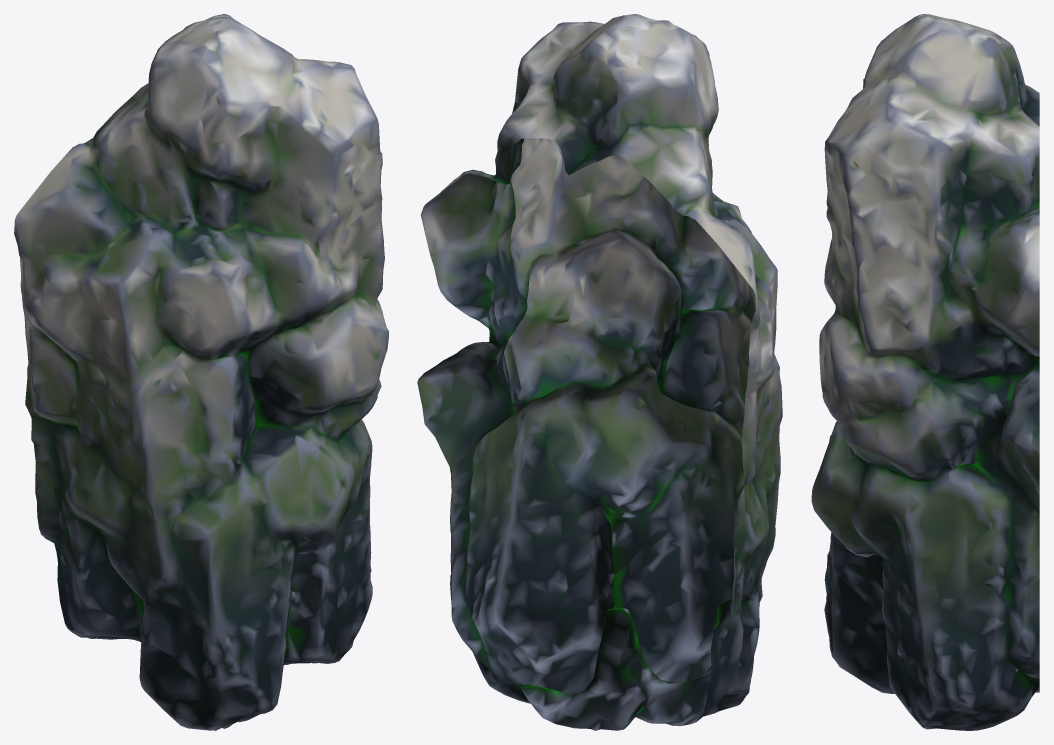
Rendered from M_Cliff_Rock_T9.fbx.
3 renders of one model, left to right at view 1: azimuth 30°, elevation 25°; view 2: azimuth 150°, elevation 25°; view 3: azimuth 270°, elevation 25°, orthographic. The views are drawn at different scales.
Visible parts, largest first — view 1: M_Cliff_Rock_T9; view 2: M_Cliff_Rock_T9; view 3: M_Cliff_Rock_T9.
Boxes of the visible parts, bbox=[...] form: M_Cliff_Rock_T9: bbox=[14, 14, 388, 730]; M_Cliff_Rock_T9: bbox=[417, 14, 782, 730]; M_Cliff_Rock_T9: bbox=[811, 14, 1039, 730].
Size of the model in its own units: 11.68 by 23.3 by 7.03.
